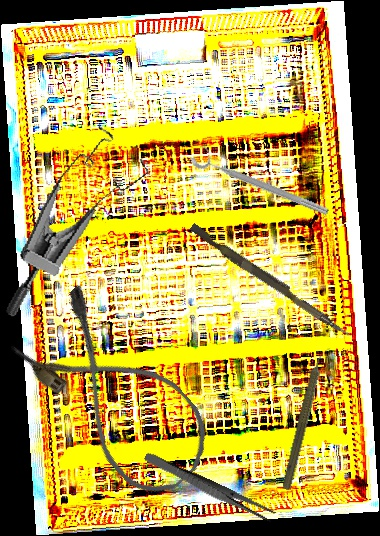Cannula: (6, 280, 228, 510)
Dressing Forceps: (141, 450, 277, 525)
Fixation Ring: (187, 142, 335, 220)
Handpiece: (279, 343, 332, 492)
Pusher: (186, 223, 355, 338)
Speculum: (2, 113, 158, 343)
